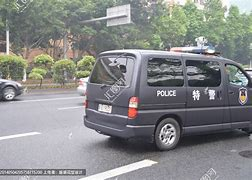specialcar: (61, 30, 251, 149)
